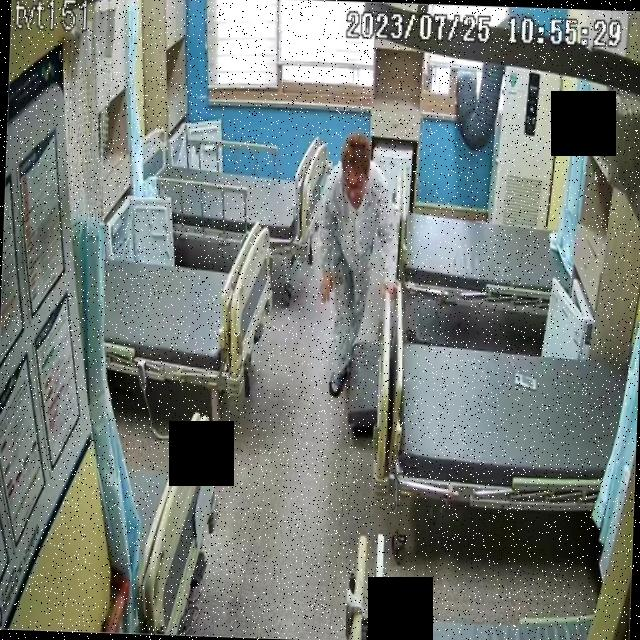bed: (390, 329, 630, 512), (100, 215, 278, 398), (138, 128, 327, 255), (389, 186, 574, 313)
danger: (315, 132, 405, 399)
patient: (314, 131, 404, 398)
